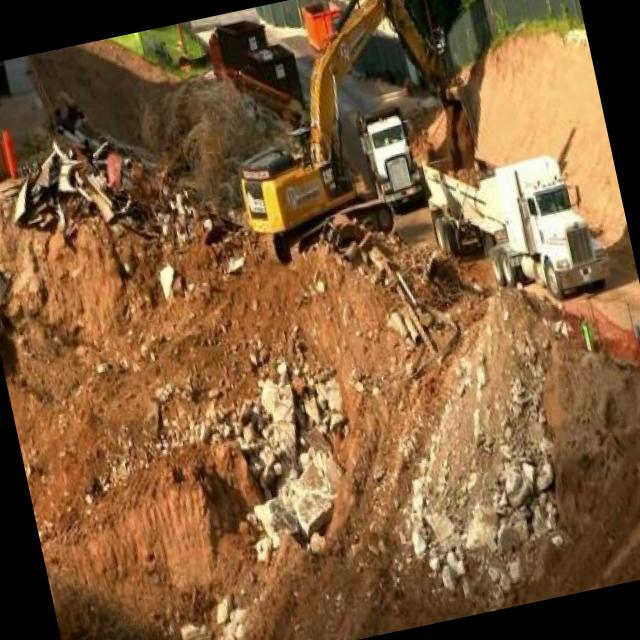Dump Truck: (418, 124, 616, 323), (357, 110, 426, 216)
Excavator: (201, 0, 504, 274)
